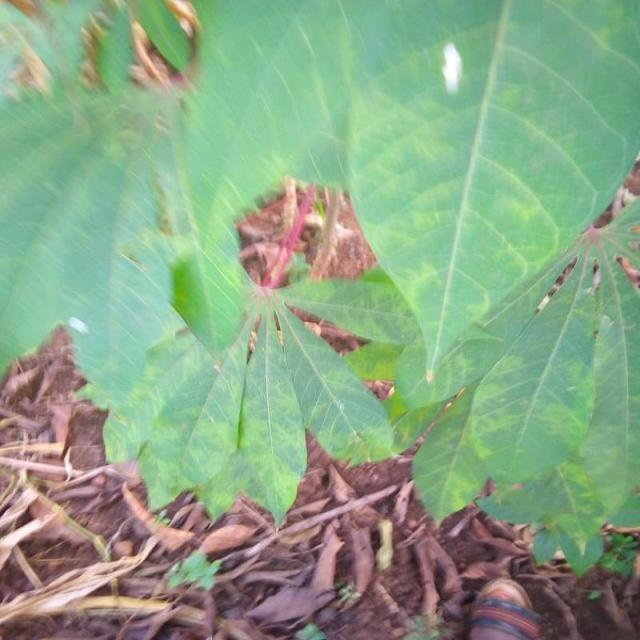cassava leaf: (1, 0, 638, 570)
